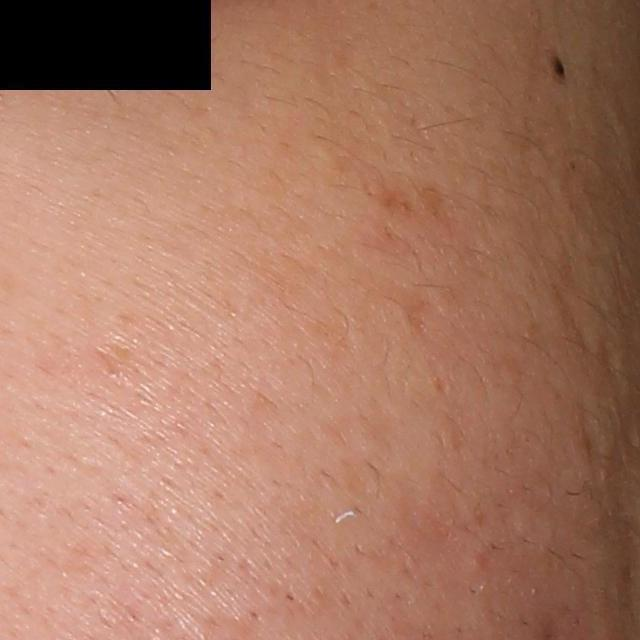nevus: (547, 50, 567, 85)
